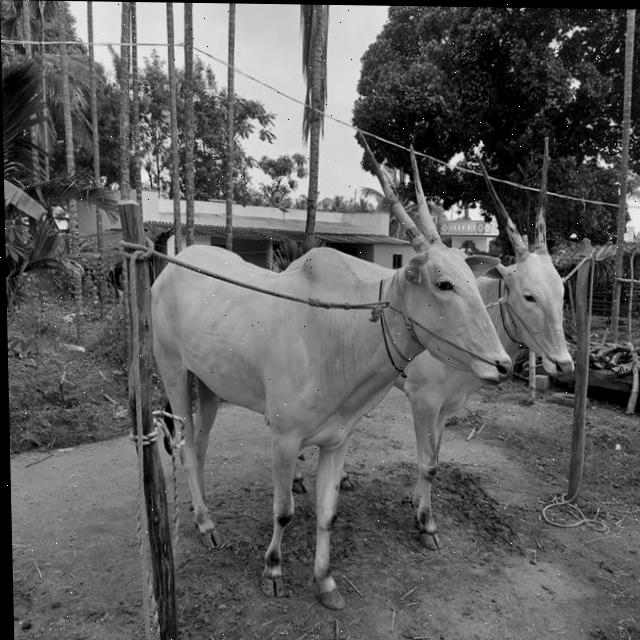Cow: (144, 132, 519, 612)
